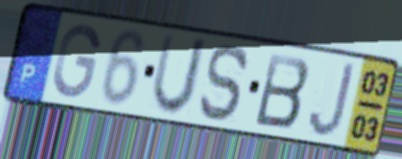6: (96, 26, 149, 111)
B: (252, 50, 313, 131)
G: (50, 22, 103, 101)
J: (307, 60, 358, 140)
S: (196, 41, 253, 125)
U: (148, 30, 211, 120)
